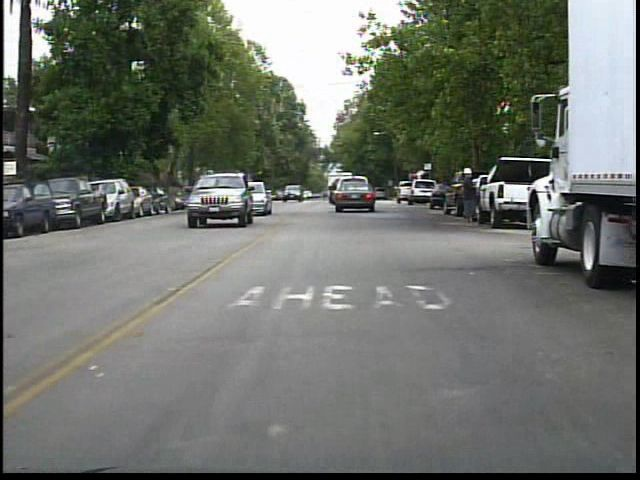person: (455, 165, 485, 230)
